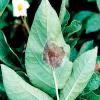Potato leaf late blight: (24, 0, 72, 97)
